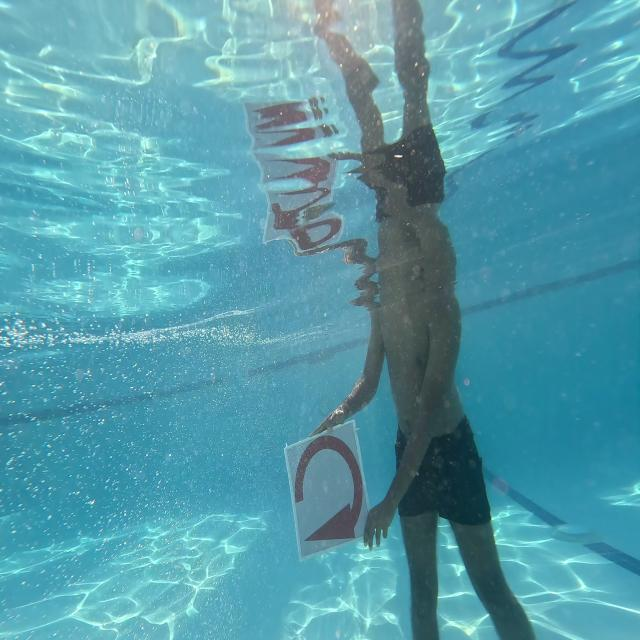red_side: (292, 424, 368, 556)
